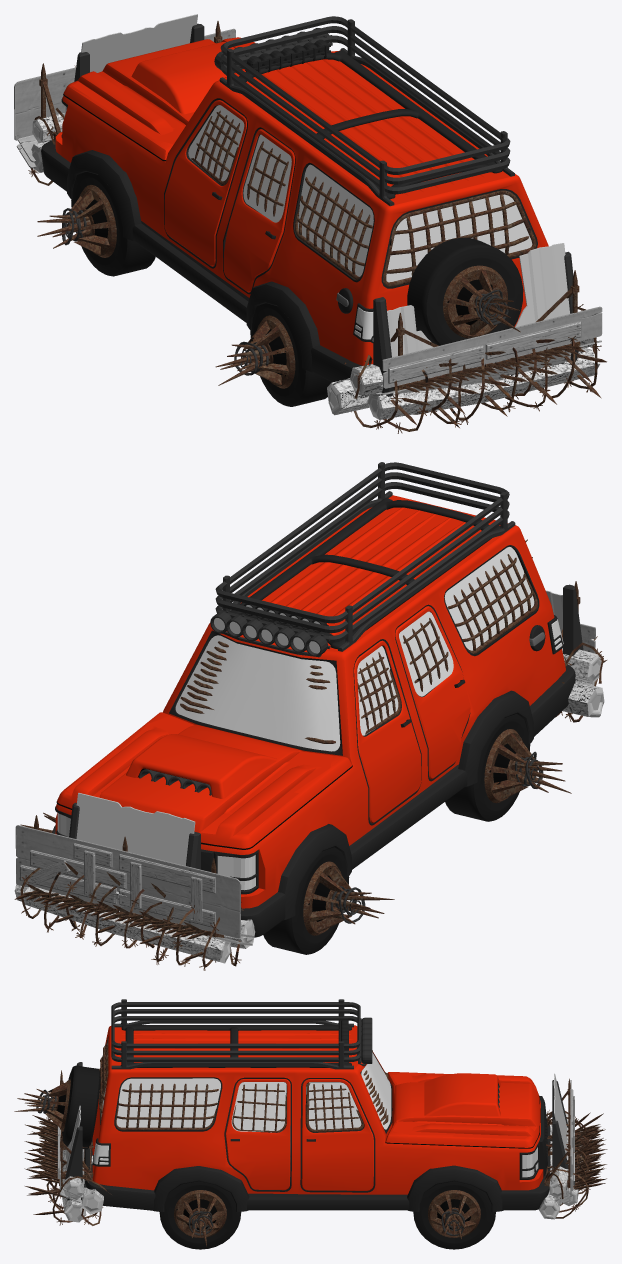
The model's file is SUV.fbx.
3 views of the same model, one above another, from view 1: azimuth 30°, elevation 25°; view 2: azimuth 150°, elevation 25°; view 3: azimuth 270°, elevation 25° (orthographic). The views are drawn at different scales.
Parts seen in each view (by area): view 1: BodyMain, RoofAddOn_003, RearRam_001, RearRam_002, WindowSlotGlass, RearRam_003, WindowSlotArmor, Wheel_Armored, Hood_002, Door_FL, Hood_003, Wheel_FL_Armored (+14 smaller); view 2: BodyMain, RoofAddOn_003, WindowSlotGlass, FrontRam_002, Hood_002, Hood_003, FrontRam_001, FrontRam_003, Door_FL, Wheel_BL_Armored, Door_BL, WindowSlotArmor (+11 smaller); view 3: BodyMain, RoofAddOn_003, Hood_002, WindowSlotGlass, Door_FR, Hood_003, Wheel_BR_Armored, Wheel_FR_Armored, Door_BR, RearRam_001, WindowSlotArmor, FrontRam_001 (+12 smaller).
Boxes of the visible parts, box(x1,y1,x2,y2) form: BodyMain: box(41, 50, 548, 382); RoofAddOn_003: box(214, 16, 514, 206); RearRam_001: box(327, 304, 606, 433); RearRam_002: box(373, 270, 602, 396); WindowSlotGlass: box(297, 164, 532, 282); RearRam_003: box(373, 243, 578, 396); WindowSlotArmor: box(295, 176, 536, 286); Wheel_Armored: box(407, 251, 520, 345); Hood_002: box(63, 37, 253, 161); Door_FL: box(164, 100, 246, 266); Hood_003: box(64, 42, 255, 130); Wheel_FL_Armored: box(37, 175, 155, 276); BodyMain: box(55, 495, 575, 937); RoofAddOn_003: box(210, 462, 515, 657); WindowSlotGlass: box(175, 547, 534, 751); FrontRam_002: box(15, 815, 253, 945); Hood_002: box(56, 712, 352, 849); Hood_003: box(64, 723, 310, 847); FrontRam_001: box(14, 862, 255, 970); FrontRam_003: box(69, 793, 200, 869); Door_FL: box(354, 640, 421, 823); Wheel_BL_Armored: box(445, 714, 571, 821); Door_BL: box(395, 606, 470, 779); WindowSlotArmor: box(180, 554, 537, 743); BodyMain: box(84, 1025, 550, 1212); RoofAddOn_003: box(111, 999, 372, 1069); Hood_002: box(385, 1072, 540, 1148); WindowSlotGlass: box(101, 1052, 391, 1129); Door_FR: box(301, 1079, 373, 1190); Hood_003: box(391, 1073, 528, 1148); Wheel_BR_Armored: box(159, 1181, 241, 1249); Wheel_FR_Armored: box(413, 1181, 494, 1249); Door_BR: box(225, 1079, 290, 1190); RearRam_001: box(24, 1115, 111, 1225); WindowSlotArmor: box(99, 1038, 388, 1130); FrontRam_001: box(539, 1110, 607, 1219).
Size of the model in its own units: 150 by 109 by 308.
